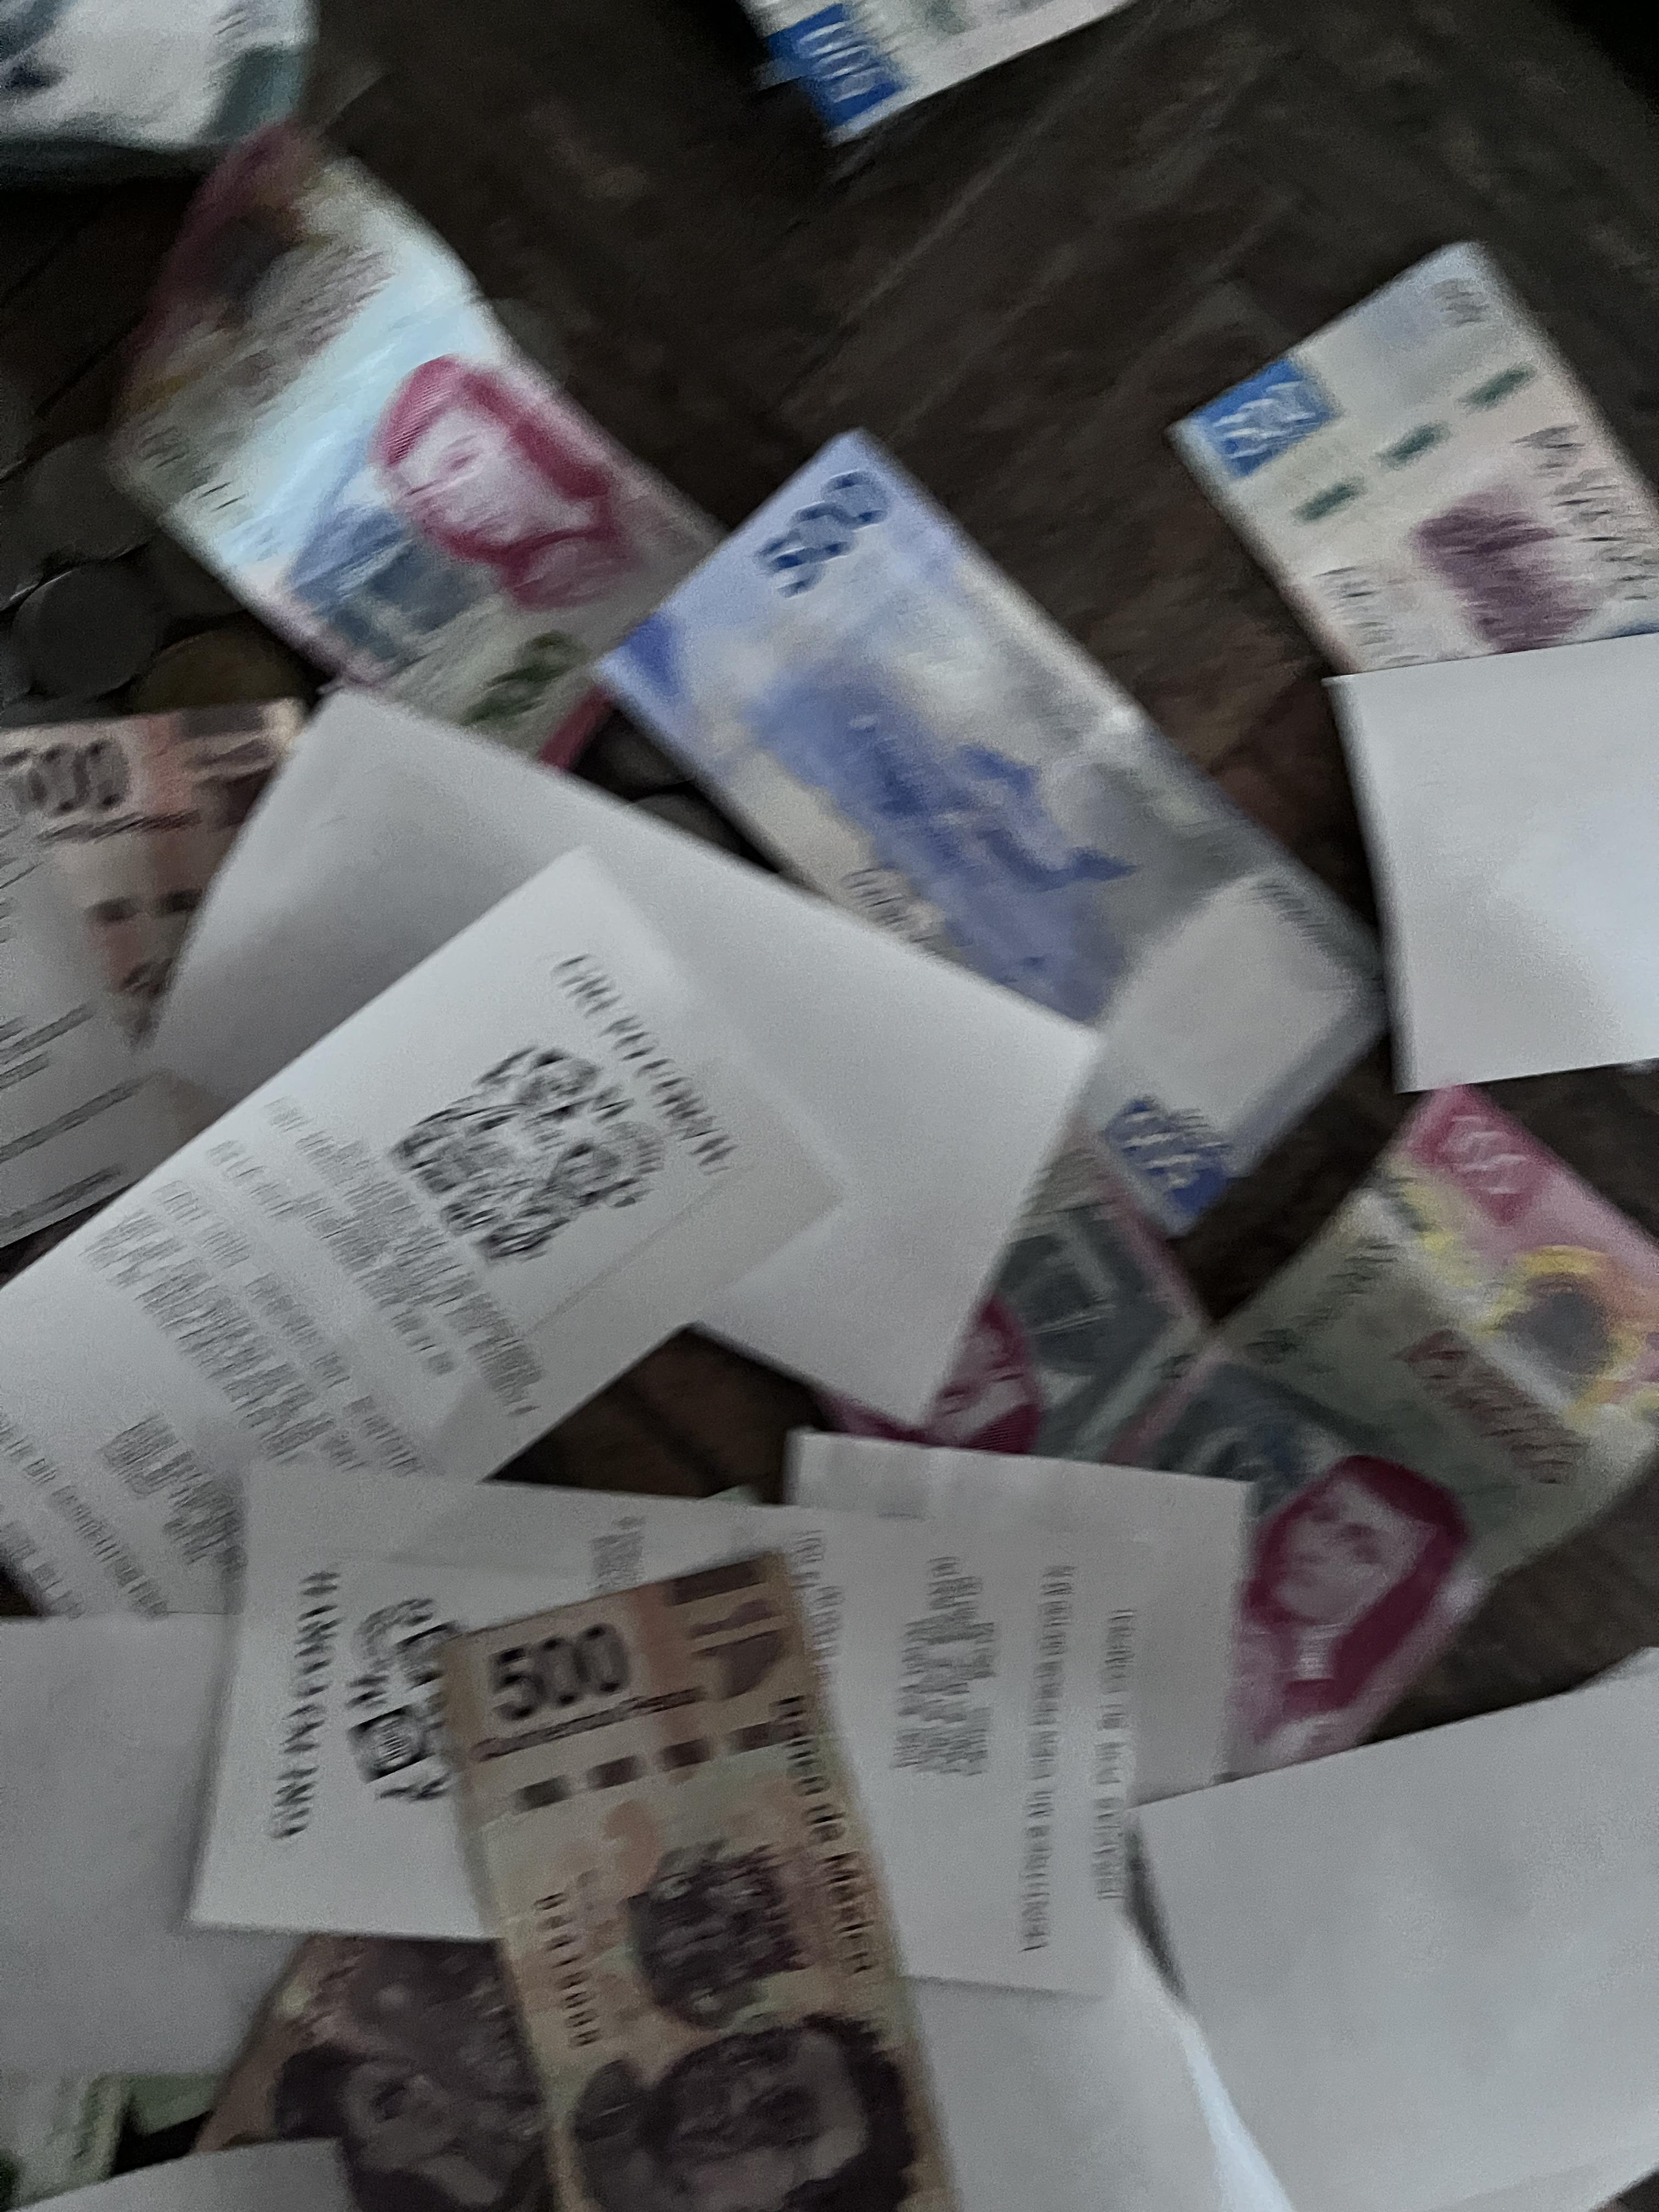100: (105, 145, 709, 806), (1127, 1069, 1659, 1810), (784, 1087, 1258, 1611)
500: (422, 1552, 1012, 2212), (186, 1871, 645, 2212)
500 nuevo: (587, 416, 1361, 1256), (1204, 223, 1659, 723), (720, 0, 1204, 164)
